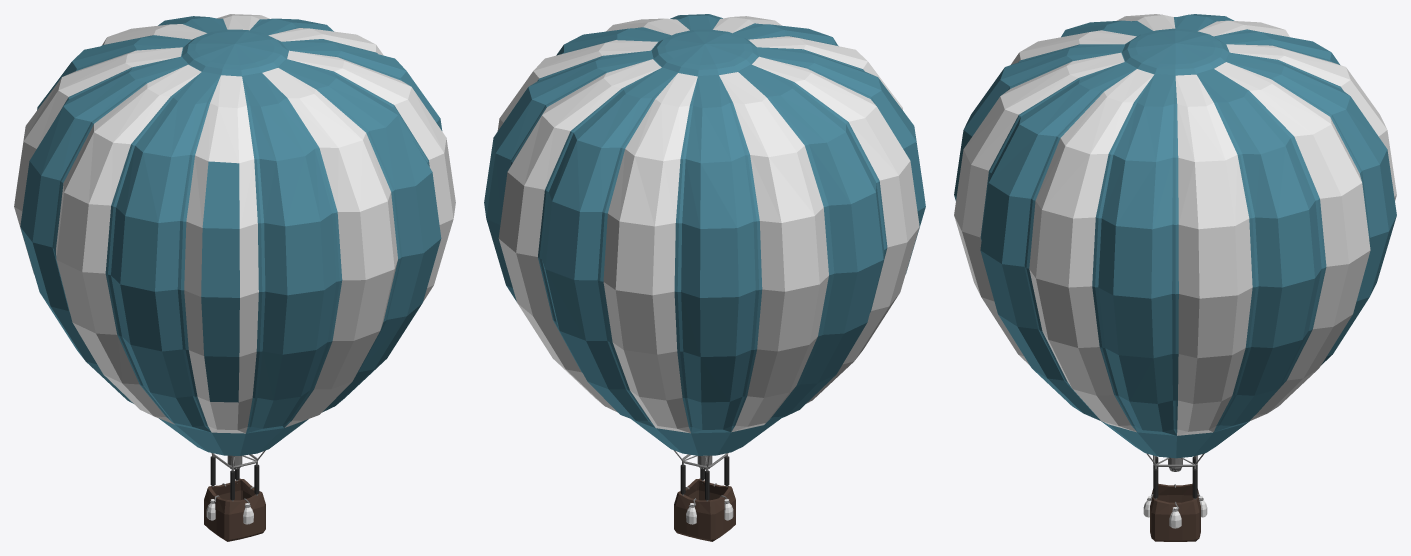
The model's file is hotairballoon.glb.
3 views of the same model, side by side, from view 1: azimuth 30°, elevation 25°; view 2: azimuth 150°, elevation 25°; view 3: azimuth 270°, elevation 25° (orthographic).
Visible parts, largest first — view 1: Hot_Air_Balloon; view 2: Hot_Air_Balloon; view 3: Hot_Air_Balloon.
Part boxes in pixels (x1,y1,x2,y2): Hot_Air_Balloon: (14, 14, 455, 541); Hot_Air_Balloon: (484, 14, 925, 541); Hot_Air_Balloon: (954, 14, 1396, 541).
Bounding box in the file's own units: 68.27 × 83.27 × 68.27.
Materials: 1 (1 with a texture image).
